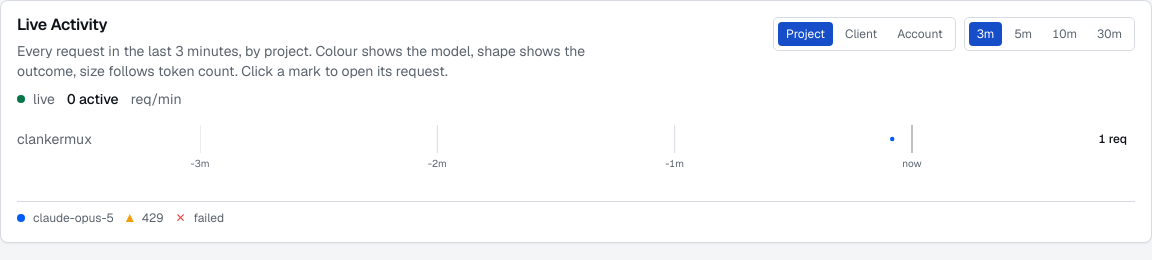
Test case: Live Activity plot — mark tooltip › falls back to the name the request recorded
This screenshot has width=1152, height=260.
Focus the picture "now -1m -2m -3m": (560, 149) [157, 125, 963, 173]
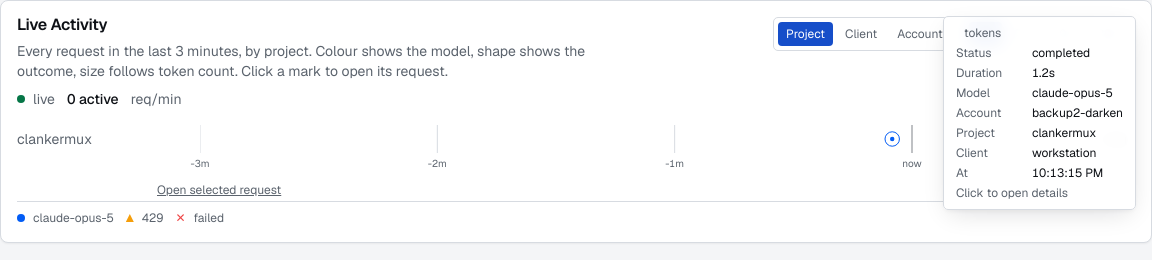
Now the message shows "workstation", box [1032, 145, 1096, 161]
